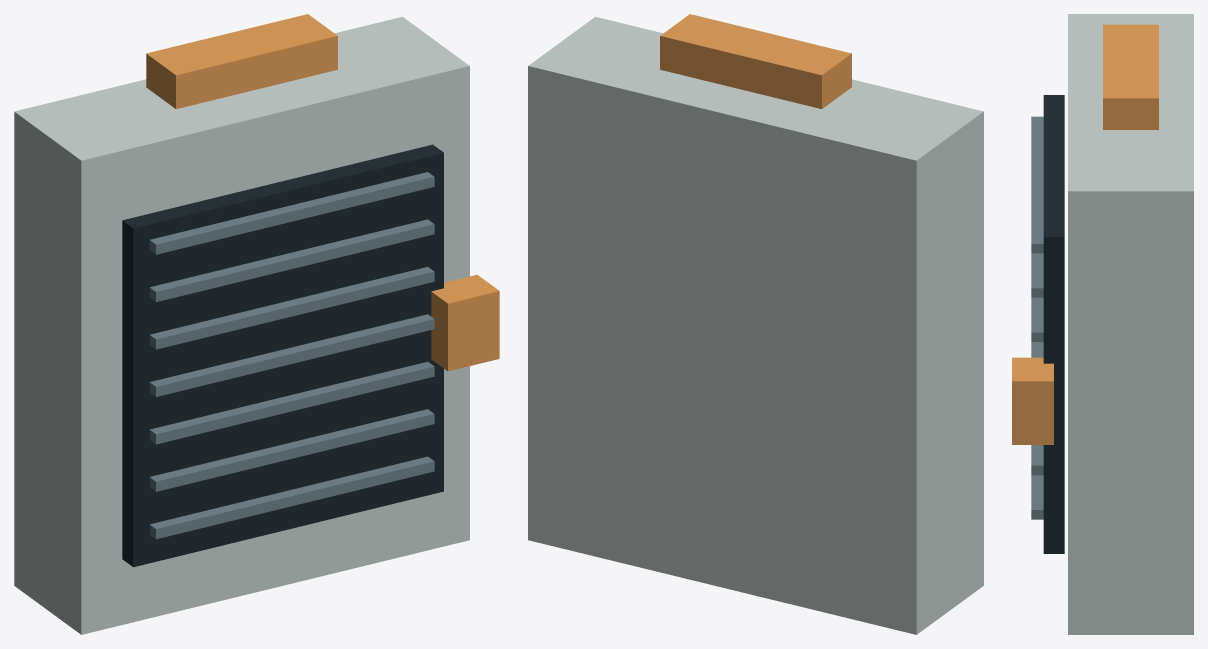
File: filter-cassette.glb
3 views of the same model, side by side, from view 1: azimuth 30°, elevation 25°; view 2: azimuth 150°, elevation 25°; view 3: azimuth 270°, elevation 25° (orthographic). The views are drawn at different scales.
Visible parts, largest first — view 1: filter_frame, filter_media, filter_pleat (×7), grip, latch; view 2: filter_frame, grip; view 3: filter_frame, filter_media, grip, filter_pleat (×5), latch.
Boxes of the visible parts, bbox=[...] form: filter_frame: bbox=[14, 16, 469, 634]; filter_media: bbox=[122, 144, 443, 567]; filter_pleat (×7): bbox=[149, 172, 434, 539]; grip: bbox=[146, 14, 337, 108]; latch: bbox=[431, 274, 499, 371]; filter_frame: bbox=[528, 16, 983, 634]; grip: bbox=[660, 14, 851, 108]; filter_frame: bbox=[1068, 14, 1193, 634]; filter_media: bbox=[1043, 95, 1064, 553]; grip: bbox=[1103, 24, 1158, 129]; filter_pleat (×5): bbox=[1031, 116, 1043, 519]; latch: bbox=[1012, 357, 1053, 444].
Size of the model in its own units: 0.6 by 0.765 by 0.26.
